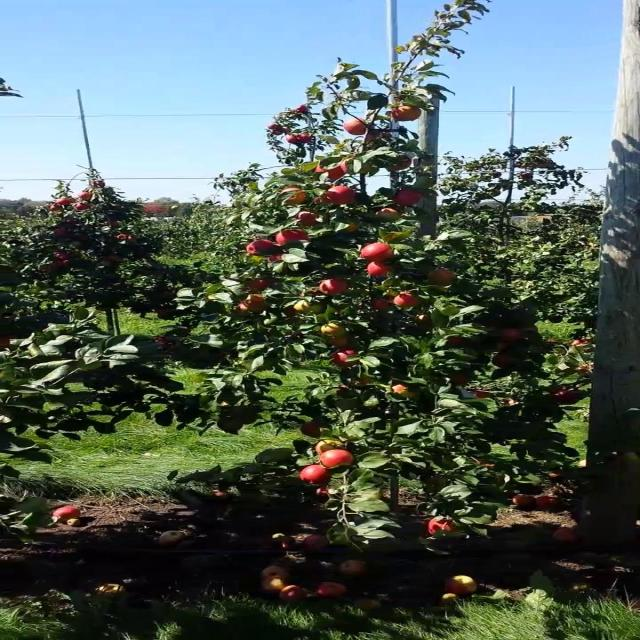apple: (336, 376, 371, 398), (360, 242, 393, 262), (320, 449, 353, 469), (427, 516, 458, 536), (324, 185, 356, 204), (300, 465, 331, 484), (247, 239, 280, 256), (276, 229, 309, 245), (551, 388, 584, 404), (393, 188, 422, 206), (427, 268, 456, 286), (280, 186, 307, 205), (391, 105, 422, 121), (238, 294, 267, 311), (336, 381, 362, 399), (316, 165, 347, 180), (320, 279, 349, 295), (389, 382, 418, 398), (331, 349, 358, 366), (393, 291, 420, 307), (342, 118, 367, 135), (367, 261, 391, 278), (293, 300, 324, 313), (491, 352, 516, 368), (316, 439, 342, 454), (387, 155, 411, 171), (244, 278, 271, 292), (320, 322, 347, 336), (300, 421, 322, 438), (244, 294, 267, 310), (498, 328, 524, 342), (376, 208, 402, 221), (296, 211, 318, 226), (469, 456, 496, 468), (449, 372, 471, 386), (324, 166, 347, 179), (329, 335, 351, 348), (356, 160, 378, 173), (371, 298, 391, 311), (469, 389, 493, 399), (0, 334, 16, 349), (338, 222, 360, 232), (300, 288, 324, 296), (296, 132, 313, 143), (447, 336, 467, 345), (364, 131, 380, 142), (282, 306, 298, 317), (500, 398, 520, 406), (153, 335, 169, 345), (356, 376, 373, 385), (496, 341, 509, 351), (238, 301, 249, 312), (267, 254, 282, 262)
